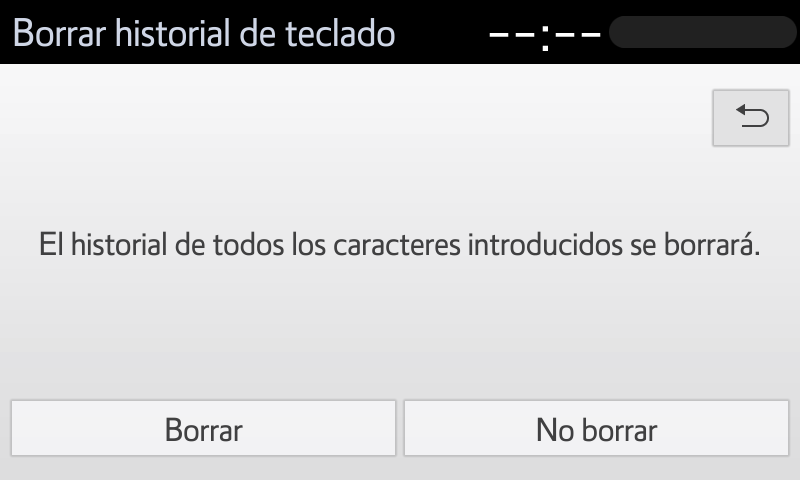touchPart: (7, 393, 399, 465), (401, 393, 793, 458)
untouchPart: (29, 222, 764, 266), (472, 6, 800, 56), (9, 12, 399, 51), (706, 85, 793, 151)
